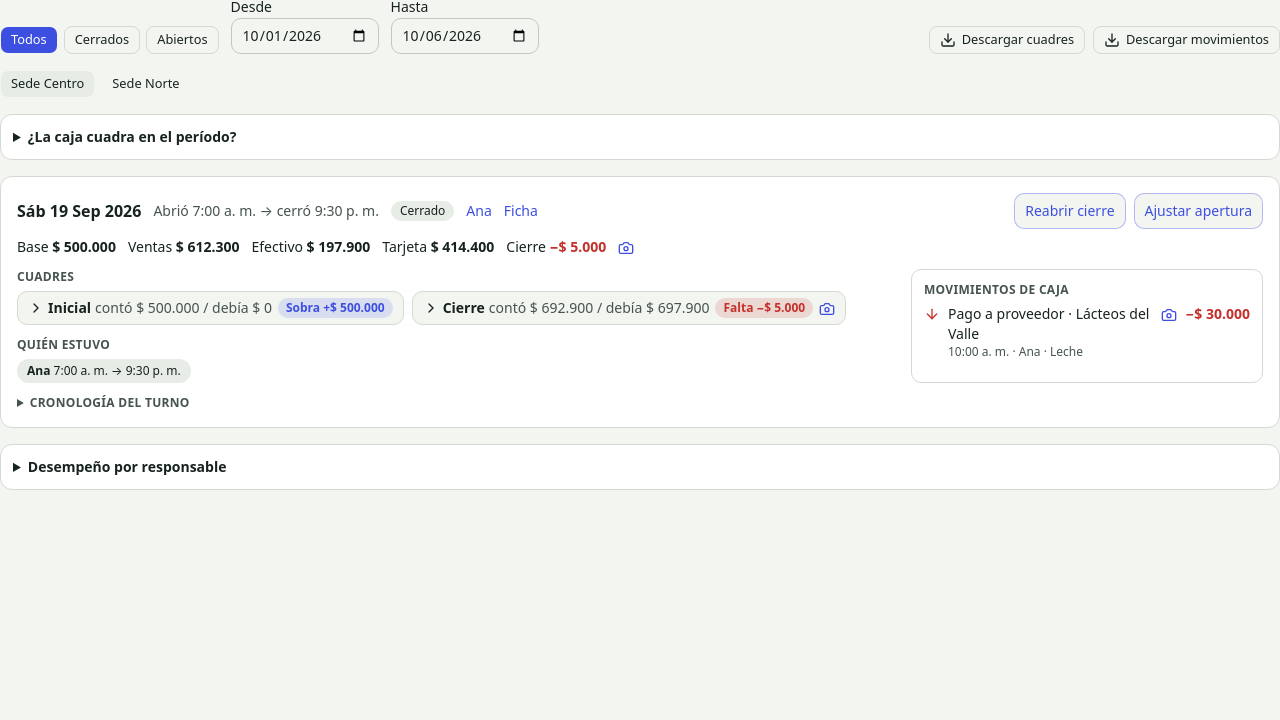
Scenario: Cuadres — la tarjeta del turno › despliega el desglose del cierre con las salidas una por una y la base de respaldo aparte
Click the button "Cierre contó $ 692.900 / debía $ 697.900" at (566, 308), box [423,298,709,318]
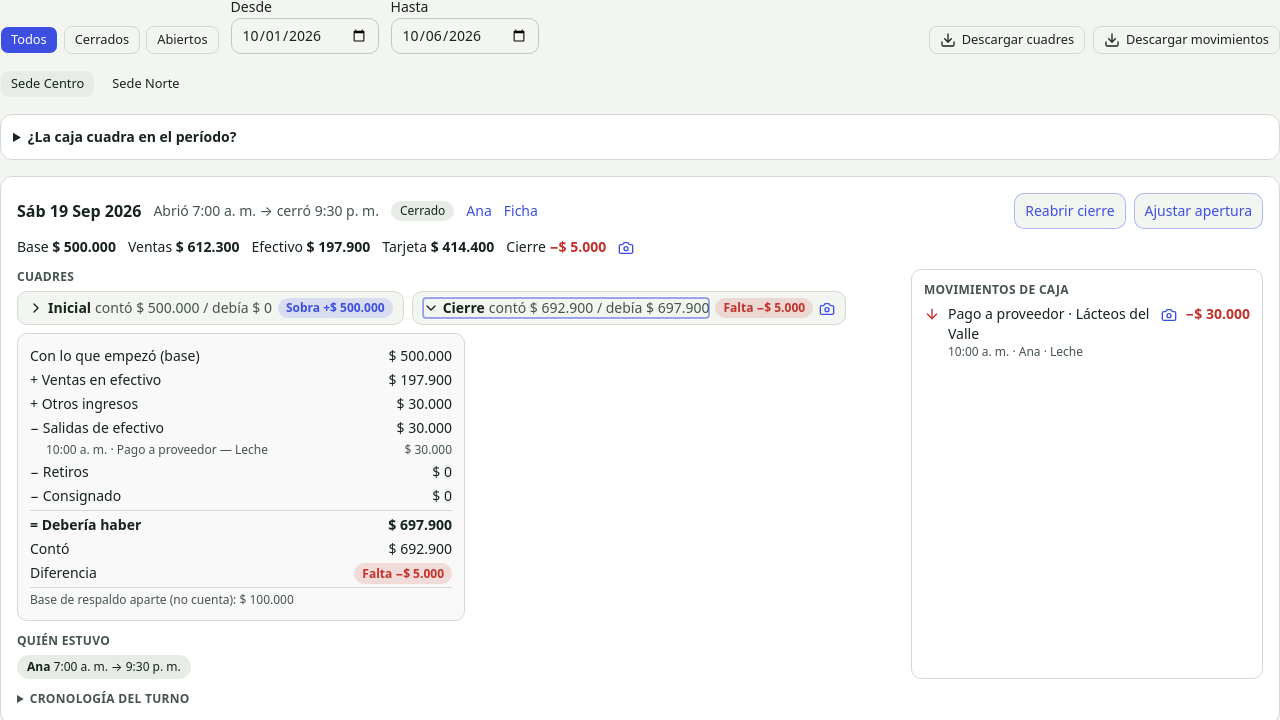
Check: the text "Con lo que empezó (base)" is shown, box [30,346,200,366]
Check: the text "10:00 a. m. · Pago a proveedor — Leche" is shown, box [46,442,268,458]
Check: the text "= Debería haber" is shown, box [30,515,141,535]
